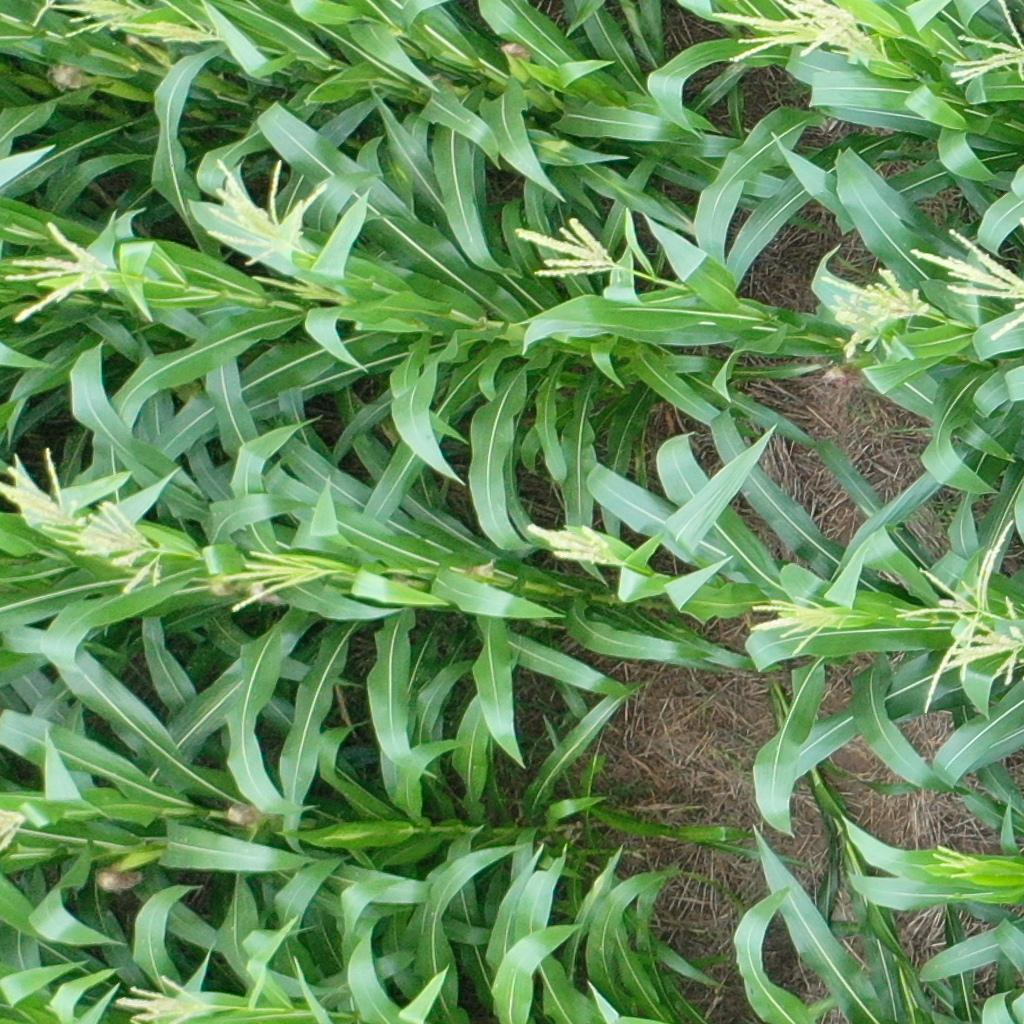Tassel: (896, 518, 1024, 711), (201, 160, 332, 267), (1, 218, 121, 331), (912, 225, 1024, 340), (821, 251, 930, 356), (707, 1, 886, 64), (112, 967, 284, 1024), (71, 502, 169, 600), (515, 212, 633, 282), (743, 583, 851, 657), (1, 446, 87, 532), (941, 1, 1024, 90), (218, 549, 327, 615), (942, 609, 1024, 683), (117, 11, 230, 53), (527, 521, 616, 572), (46, 1, 154, 41), (251, 270, 337, 302), (930, 840, 984, 881), (2, 801, 33, 855)
